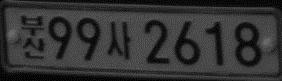1: (203, 21, 230, 66)
2: (143, 19, 169, 65)
6: (173, 20, 201, 65)
8: (233, 21, 262, 66)
9: (75, 16, 101, 61), (47, 15, 72, 59)
부산_V: (20, 14, 45, 60)
사: (106, 21, 132, 59)
